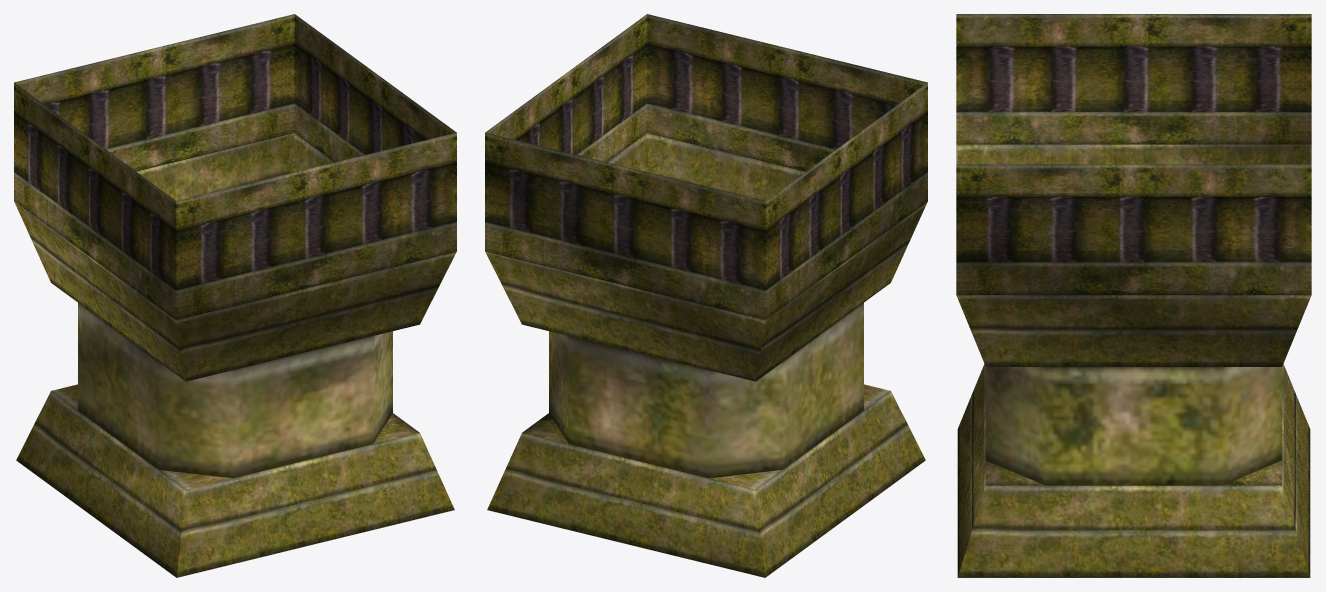
The model's file is OVERHILL_A_01_OBJECT113.fbx.
3 renders of one model, left to right at view 1: azimuth 30°, elevation 25°; view 2: azimuth 150°, elevation 25°; view 3: azimuth 270°, elevation 25°, orthographic. The views are drawn at different scales.
Parts seen in each view (by area): view 1: OVERHILL_A_01_OBJECT113; view 2: OVERHILL_A_01_OBJECT113; view 3: OVERHILL_A_01_OBJECT113.
Boxes of the visible parts, box(x1,y1,x2,y2) form: OVERHILL_A_01_OBJECT113: box(14, 14, 456, 577); OVERHILL_A_01_OBJECT113: box(485, 14, 927, 577); OVERHILL_A_01_OBJECT113: box(956, 14, 1311, 577).
Size of the model in its own units: 18045 by 23204 by 18045.
Materials: 4 (4 with a texture image).
